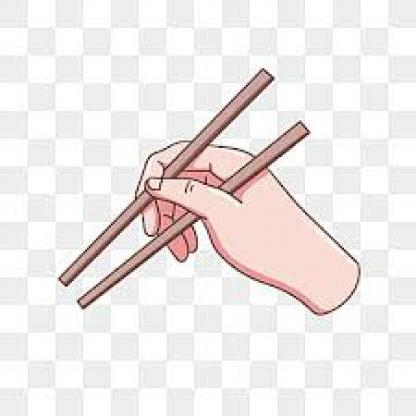chopstick: (59, 64, 276, 284), (78, 118, 310, 307)
